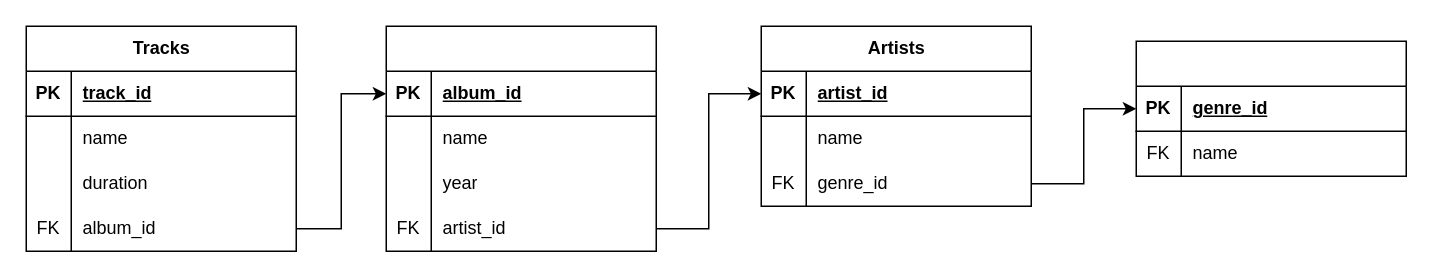
Some shapes in this 1433 by 278 pixel diagram are drawn without their labels. Here are the shapes that lost their labels. From the top down, the box of each, then its label:
(1135, 40, 1406, 176): Genres
(385, 25, 656, 251): Albums
